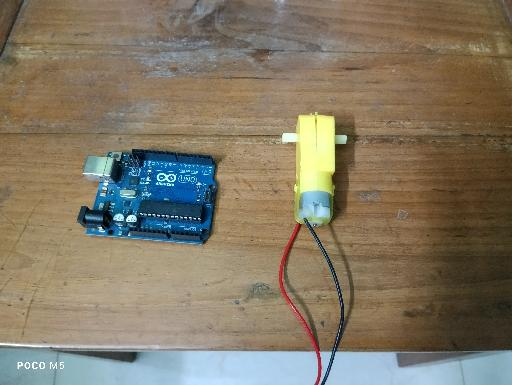Arduino: (77, 147, 218, 246)
Motor: (282, 112, 348, 230)
